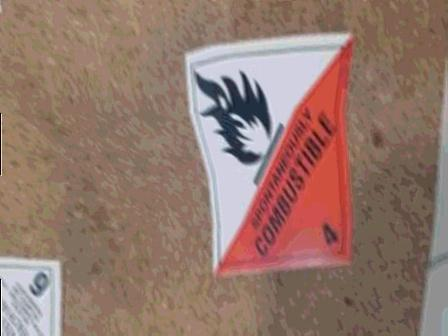spontaneously-combustible: (185, 31, 362, 275)
